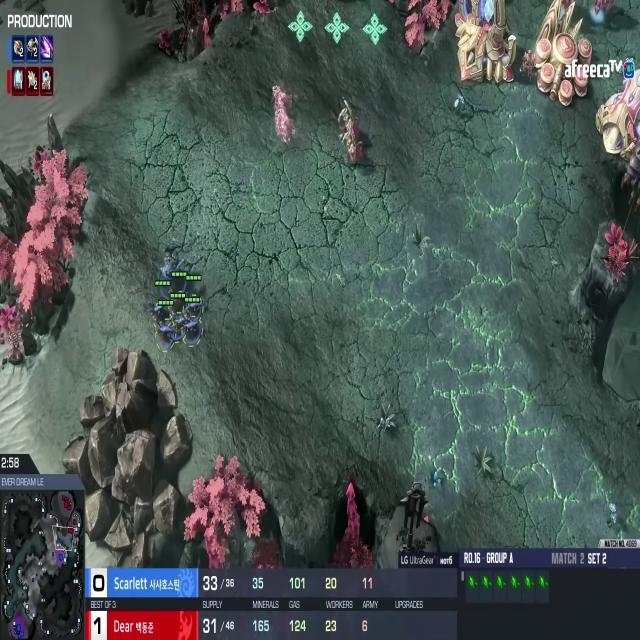adept: (340, 124, 367, 172), (339, 100, 360, 136)
roach: (157, 241, 188, 286)
zealot: (518, 43, 537, 85)
zergling: (181, 316, 203, 349), (180, 293, 204, 320), (167, 307, 185, 336), (156, 323, 177, 346), (152, 295, 168, 320)
